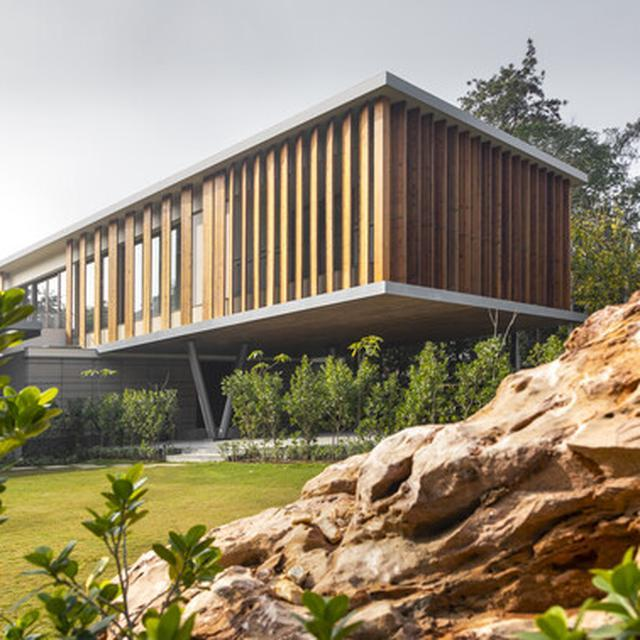building: (0, 69, 585, 433)
